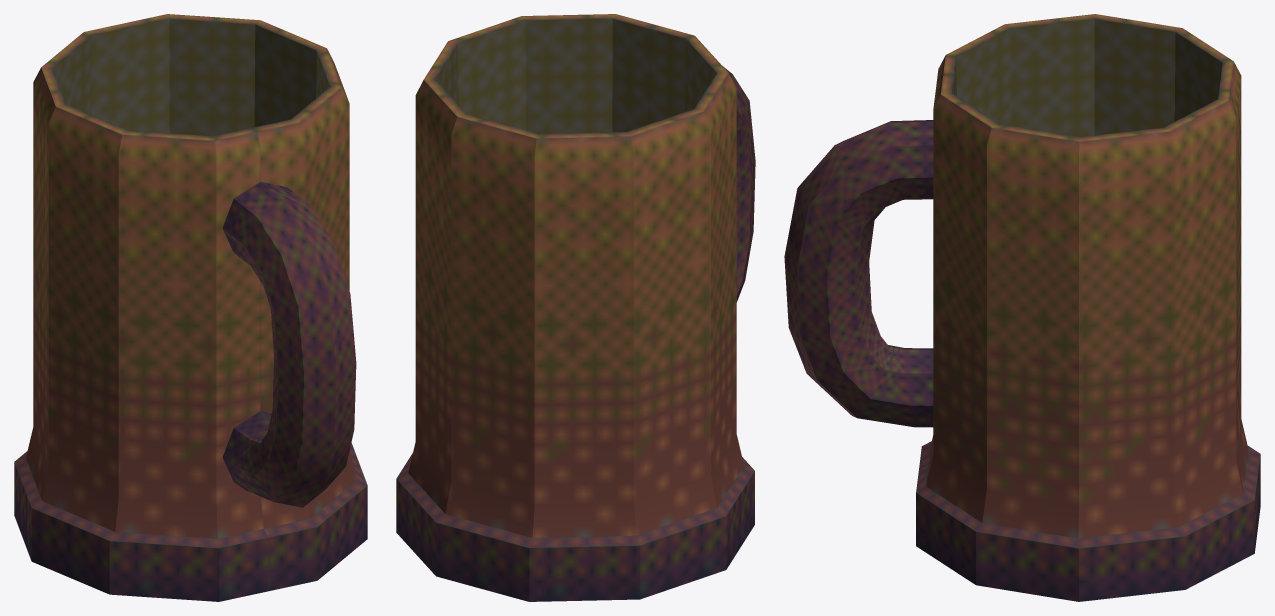
Rendered from JarraCervezaFinal_01.fbx.
3 renders of one model, left to right at view 1: azimuth 30°, elevation 25°; view 2: azimuth 150°, elevation 25°; view 3: azimuth 270°, elevation 25°, orthographic.
Parts seen in each view (by area): view 1: Cylinder.038; view 2: Cylinder.038; view 3: Cylinder.038.
Part boxes in pixels (box(x1,y1,x2,y2)): Cylinder.038: box(14, 14, 367, 601); Cylinder.038: box(396, 14, 755, 601); Cylinder.038: box(784, 14, 1260, 601).
Bounding box in the file's own units: 9.12 × 12.68 × 12.19.
